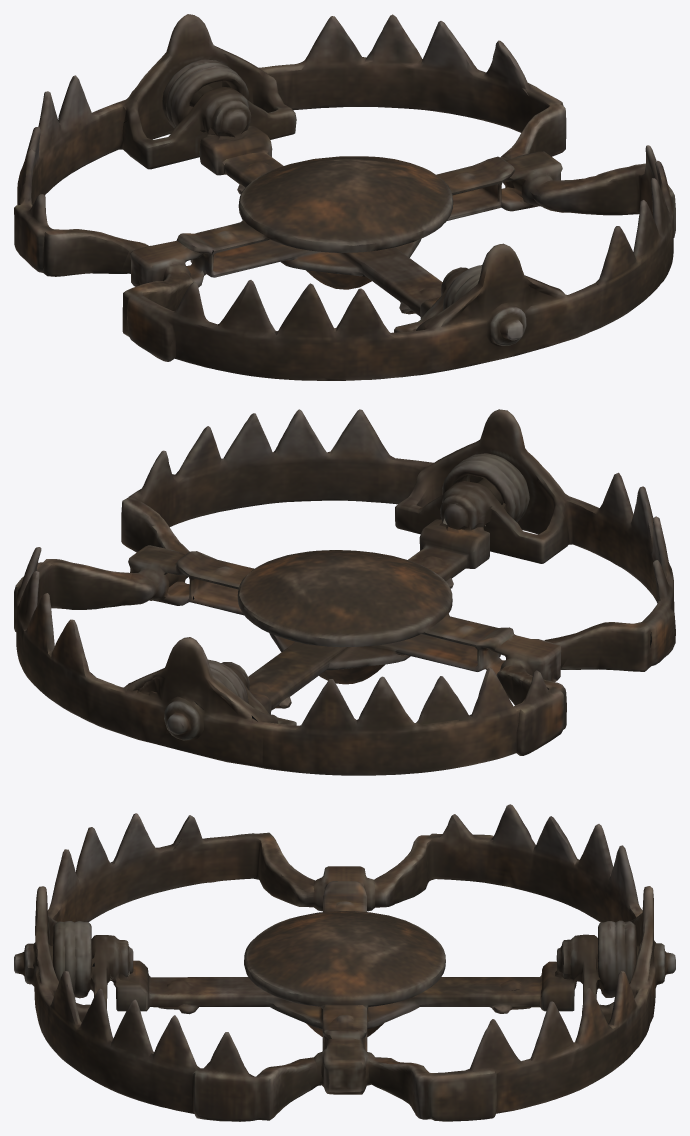
3 renders of one model, top to bottom at view 1: azimuth 30°, elevation 25°; view 2: azimuth 150°, elevation 25°; view 3: azimuth 270°, elevation 25°, orthographic. The views are drawn at different scales.
Visible parts, largest first — view 1: JawFront, JawBack, Base, PressurePlate; view 2: JawBack, JawFront, Base, PressurePlate; view 3: JawFront, JawBack, Base, PressurePlate.
Boxes of the visible parts, bbox=[...] form: JawFront: bbox=[14, 14, 566, 276]; JawBack: bbox=[122, 145, 675, 380]; Base: bbox=[121, 121, 570, 319]; PressurePlate: bbox=[219, 156, 494, 277]; JawBack: bbox=[121, 409, 675, 671]; JawFront: bbox=[14, 547, 566, 775]; Base: bbox=[128, 519, 568, 714]; PressurePlate: bbox=[239, 550, 450, 690]; JawFront: bbox=[374, 804, 675, 1121]; JawBack: bbox=[14, 813, 313, 1121]; Base: bbox=[108, 866, 581, 1094]; PressurePlate: bbox=[246, 911, 479, 1042].
Bounding box in the file's own units: 55.01 × 15.65 × 61.54.
Materials: 1 (1 with a texture image).
